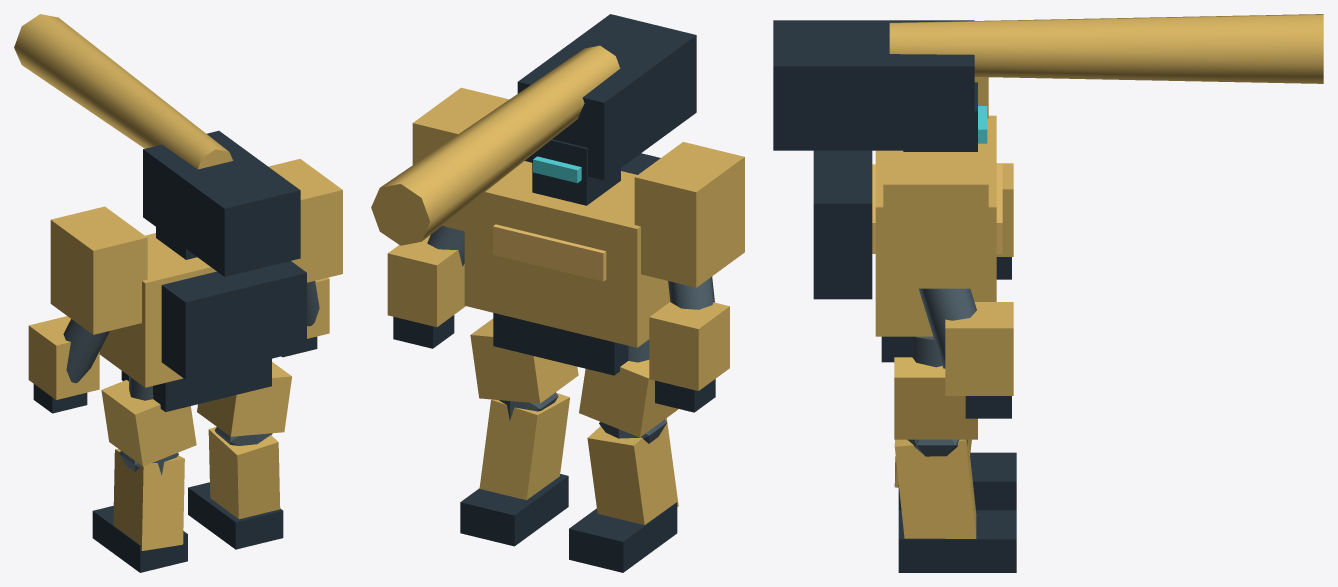
The model's file is frame-barbarossa.glb.
3 renders of one model, left to right at view 1: azimuth 30°, elevation 25°; view 2: azimuth 150°, elevation 25°; view 3: azimuth 270°, elevation 25°, orthographic. The views are drawn at different scales.
Parts seen in each view (by area): view 1: frame-barbarossa; view 2: frame-barbarossa; view 3: frame-barbarossa.
Boxes of the visible parts, x1,y1,x2,y2 form: frame-barbarossa: (14, 14, 342, 572); frame-barbarossa: (371, 14, 744, 572); frame-barbarossa: (773, 14, 1323, 572).
Bounding box in the file's own units: 1.26 × 1.83 × 1.77.
